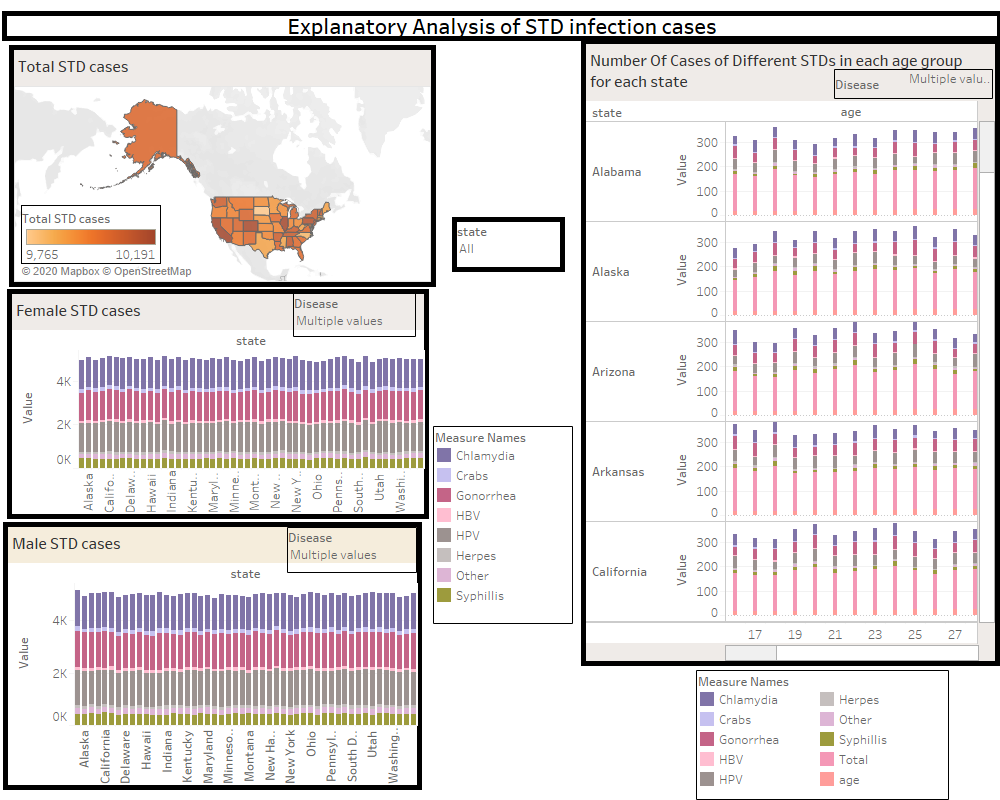

The page's visual inventory and layout, read from the dashboard file:
{"tool":"tableau","page":{"name":"Dashboard 3-Exploratory Analysis","canvas":[1000,800],"ordinal":2},"visuals":[{"type":"text","box":[2,11,1000,30]},{"type":"worksheet","title":"Number Of Cases of Different STDs in each age group for each state","mark":"Bar","rows":["state"],"cols":["age"],"box":[581,39,419,627]},{"type":"worksheet","title":"Total STD cases","mark":"Automatic","box":[9,45,427,242]},{"type":"legend","title":"Total STD cases","param":"[federated.1hxrank0zzjepz1bsj8x807ywtv0].[sum:Total STD cases:qk]","box":[21,205,140,59]},{"type":"filter","title":"Number Of Cases of Different STDs in each age group for each state","param":"[federated.04majsd1vqnuyr16rlz6j04ogxer].[none:state:nk]","box":[452,217,113,55]},{"type":"worksheet","title":"Female STD cases","mark":"Bar","cols":["state"],"box":[8,292,416,227]},{"type":"legend","title":"Female STD cases","param":"[federated.1bqv3tp170nig81gmivo51x70ksl].[:Measure Names]","box":[434,458,140,178]},{"type":"worksheet","title":"Male STD cases","mark":"Bar","cols":["state"],"box":[3,522,419,268]},{"type":"legend","title":"Number Of Cases of Different STDs in each age group for each state","param":"[federated.04majsd1vqnuyr16rlz6j04ogxer].[:Measure Names]","box":[696,670,253,130]}]}

Visuals, with their boxes in screenshot pixels (x1, y1, x2, y2), scaled from the page's 1000x800 canvas onto the 1000x800 screenshot:
text: select_region(2, 11, 999, 41)
"Number Of Cases of Different STDs in each age group for each state" worksheet (Bar marks): select_region(581, 39, 999, 666)
"Total STD cases" worksheet: select_region(9, 45, 436, 287)
"Total STD cases" legend: select_region(21, 205, 161, 264)
"Number Of Cases of Different STDs in each age group for each state" filter: select_region(452, 217, 565, 272)
"Female STD cases" worksheet (Bar marks): select_region(8, 292, 424, 519)
"Female STD cases" legend: select_region(434, 458, 574, 636)
"Male STD cases" worksheet (Bar marks): select_region(3, 522, 422, 790)
"Number Of Cases of Different STDs in each age group for each state" legend: select_region(696, 670, 949, 799)
